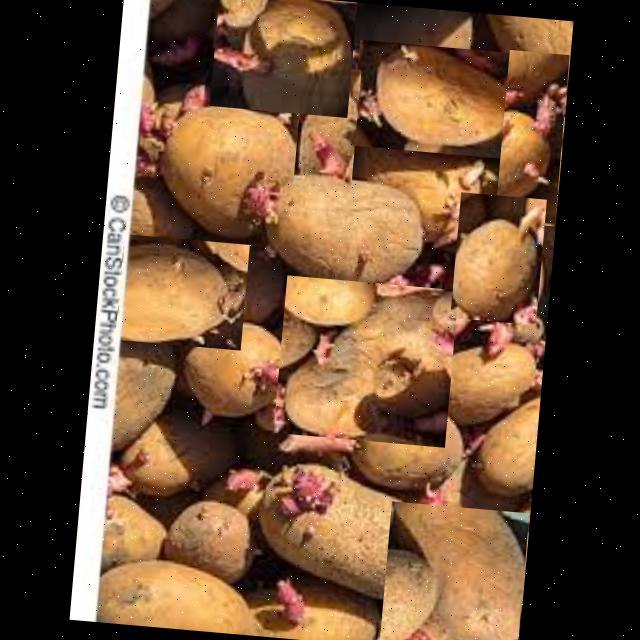Sprouted potato: (272, 275, 457, 447), (250, 461, 438, 602), (226, 164, 424, 290), (150, 99, 305, 246), (378, 501, 528, 640), (349, 39, 522, 159), (288, 394, 466, 494), (208, 0, 356, 117), (114, 234, 248, 350), (417, 316, 541, 428), (493, 49, 568, 226), (448, 192, 546, 324), (98, 446, 175, 583), (292, 64, 360, 190), (252, 579, 371, 640)
